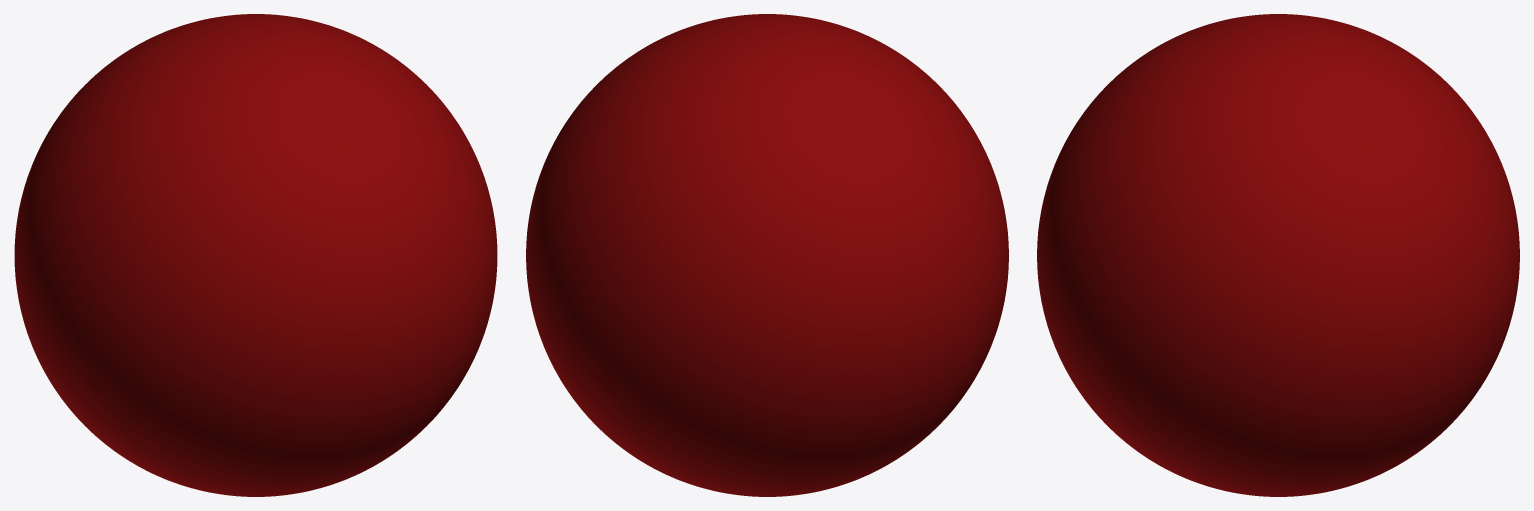
Rendered from Dirt Metal.obj.
3 renders of one model, left to right at view 1: azimuth 30°, elevation 25°; view 2: azimuth 150°, elevation 25°; view 3: azimuth 270°, elevation 25°, orthographic.
Visible parts, largest first — view 1: Sphere001; view 2: Sphere001; view 3: Sphere001.
Part boxes in pixels (x1=…): Sphere001: x1=14, y1=14, x2=497, y2=496; Sphere001: x1=526, y1=14, x2=1008, y2=496; Sphere001: x1=1037, y1=14, x2=1519, y2=496.
Size of the model in its own units: 58.39 by 58.39 by 58.39.
